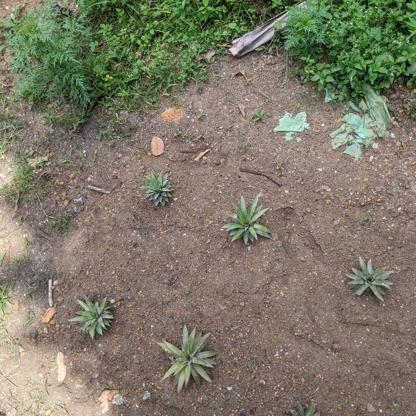pineapple: (156, 322, 220, 397), (221, 190, 274, 252), (341, 255, 397, 306), (72, 292, 117, 343), (140, 167, 175, 214)
